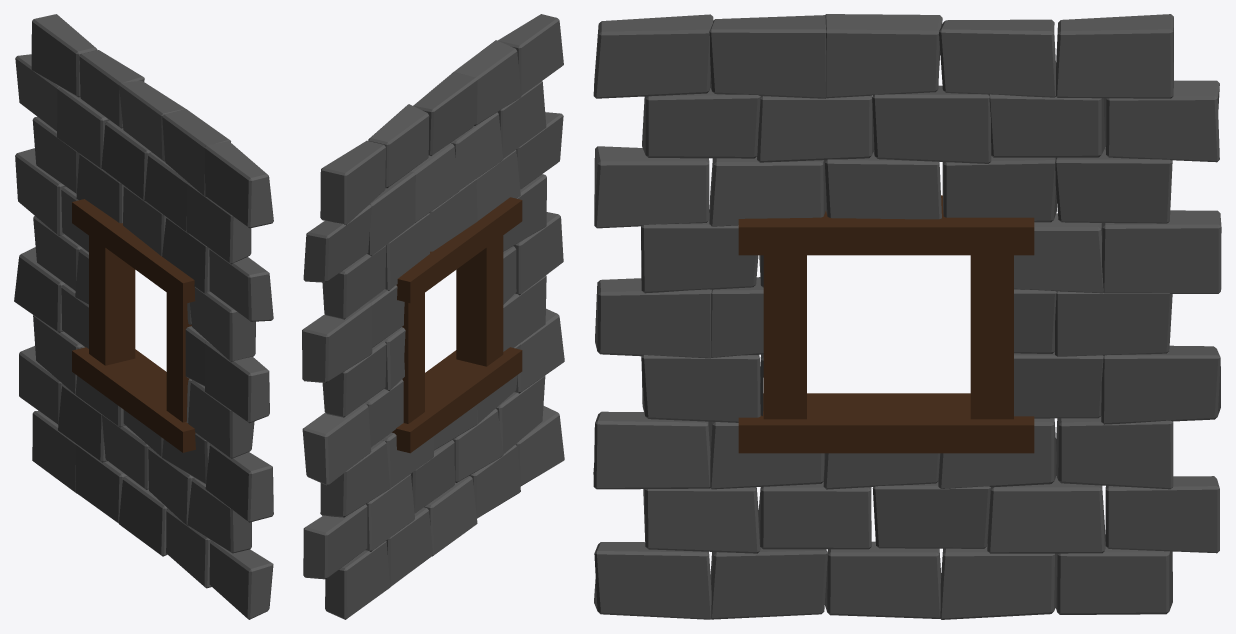
Rendered from BrickWall-Stone-Window.fbx.
3 renders of one model, left to right at view 1: azimuth 30°, elevation 25°; view 2: azimuth 150°, elevation 25°; view 3: azimuth 270°, elevation 25°, orthographic. The views are drawn at different scales.
Visible parts, largest first — view 1: Stone Window Wall, Stone wf4, Stone wf2, Stone wf3, Stone wf1; view 2: Stone Window Wall, Stone wf4, Stone wf1, Stone wf3, Stone wf2; view 3: Stone Window Wall, Stone wf4, Stone wf3, Stone wf1, Stone wf2.
Part boxes in pixels (box(x1,y1,x2,y2)): Stone Window Wall: box(14, 14, 273, 619); Stone wf4: box(72, 347, 195, 452); Stone wf2: box(89, 236, 135, 365); Stone wf3: box(72, 199, 195, 303); Stone wf1: box(166, 293, 191, 422); Stone Window Wall: box(302, 14, 564, 619); Stone wf4: box(392, 347, 522, 453); Stone wf1: box(456, 235, 503, 366); Stone wf3: box(396, 197, 522, 303); Stone wf2: box(402, 293, 424, 423); Stone Window Wall: box(593, 14, 1221, 619); Stone wf4: box(738, 393, 1034, 453); Stone wf3: box(738, 195, 1034, 255); Stone wf1: box(763, 255, 806, 419); Stone wf2: box(970, 255, 1013, 419).
Size of the model in its own units: 105 by 907 by 874.
